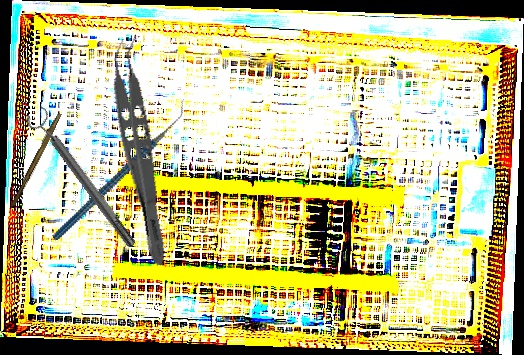Chopper: (23, 99, 216, 241)
Fixation Ring: (22, 103, 143, 255)
Scalpel Handle: (10, 111, 62, 208)
Tissue Forceps: (100, 35, 187, 268)
